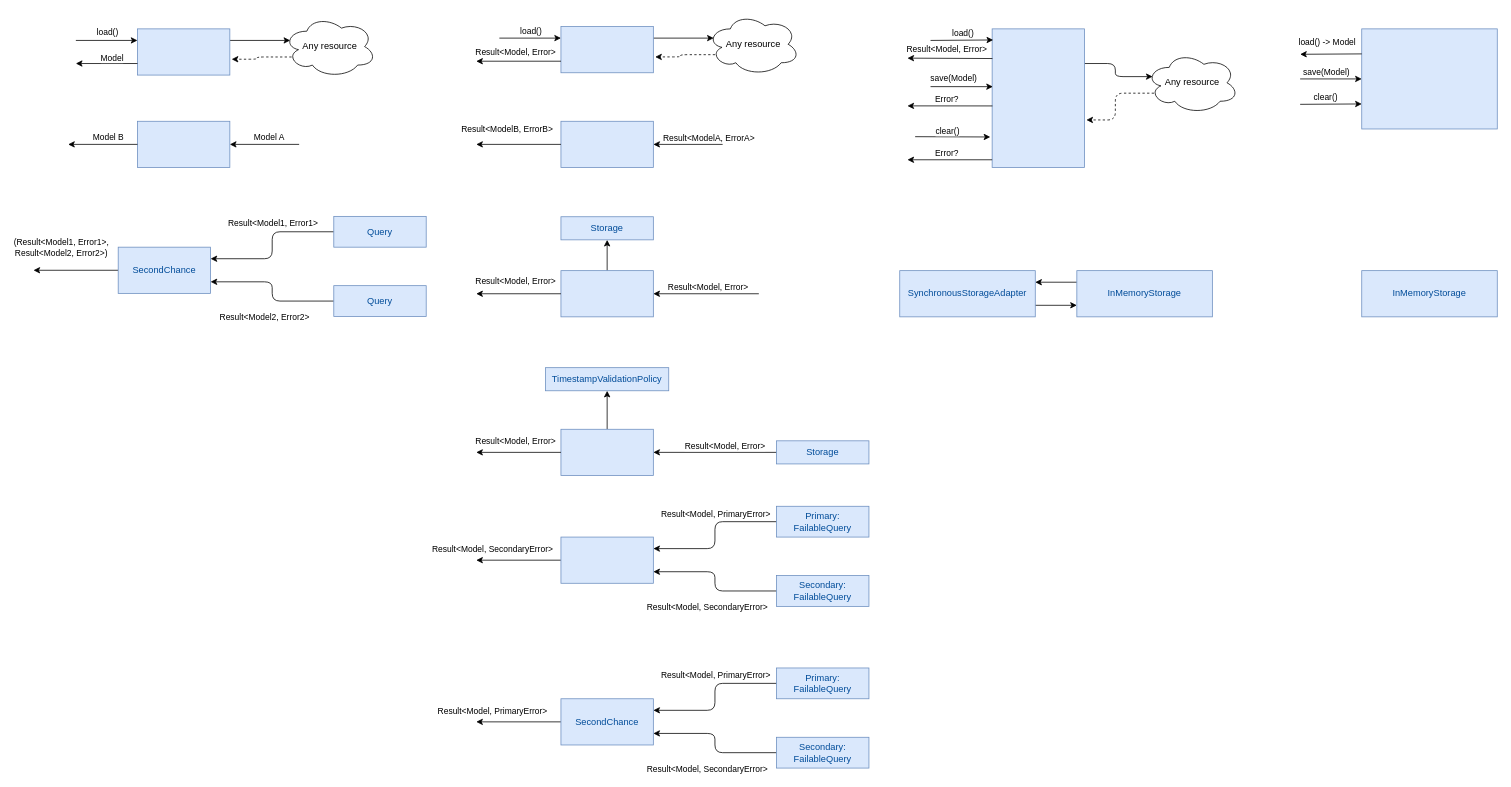
The diagram is 1511 pixels wide and 787 high, and some of its shapes have lost their labels. The shapes that lost their labels are listed below. From the top down, each one's centre as x and y in pixels, then its label:
point (183, 51): <Query>
point (606, 49): <FailableQuery>
point (1038, 97): <Storage>:<FailableQuery>
point (1429, 78): <SynchronousStorage >
point (183, 144): Converter
point (606, 144): FailableConverter
point (606, 293): StoringQuery
point (606, 452): ExpiringCache
point (606, 559): Fallback
